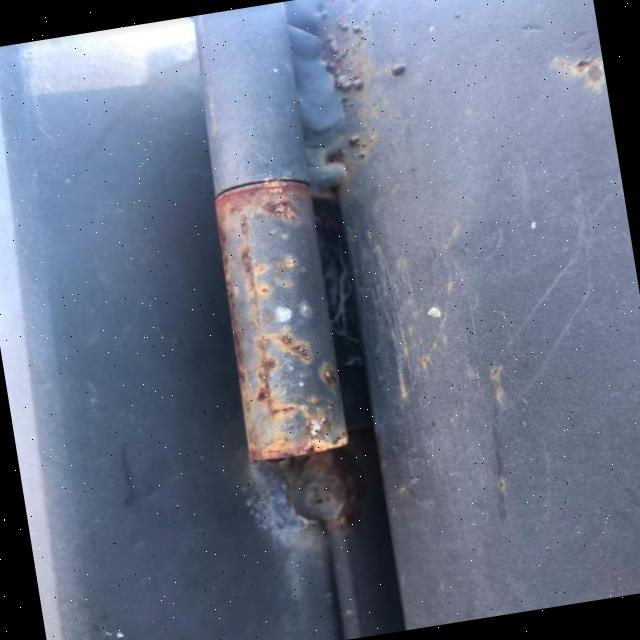Corrosion: (178, 2, 357, 466)
